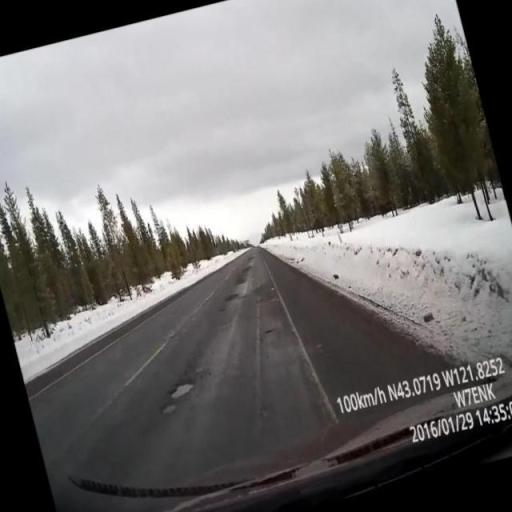pothole: (170, 382, 194, 400), (161, 404, 176, 414)
